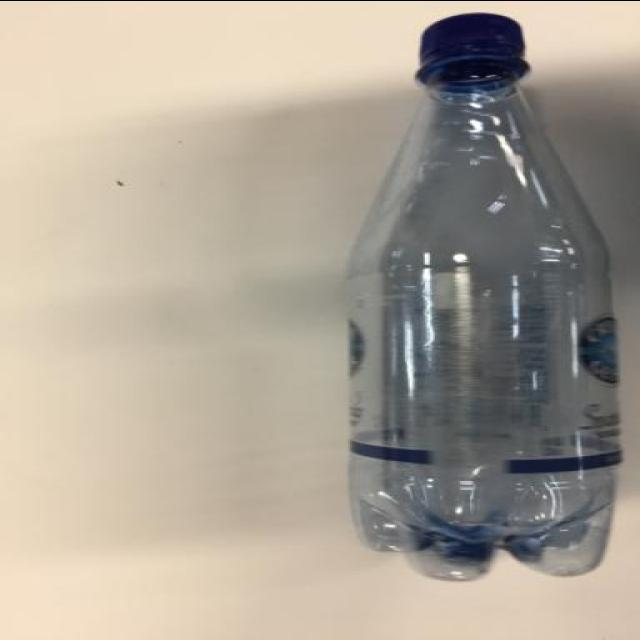PET: (338, 1, 628, 585)
